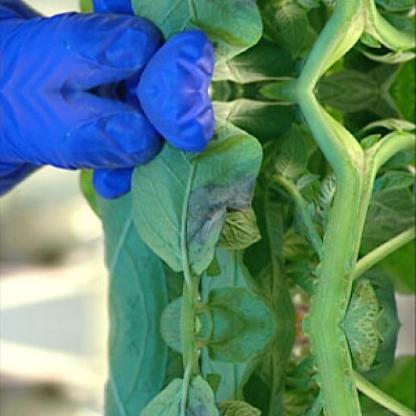Early-Blight: (168, 130, 290, 268), (168, 0, 290, 50), (168, 380, 290, 416), (322, 260, 388, 324), (322, 324, 388, 388)
